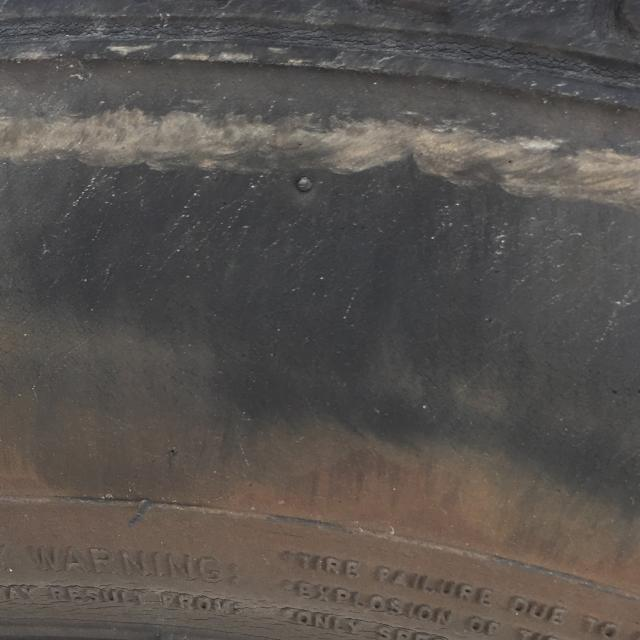Cracks: (0, 0, 640, 104), (0, 564, 510, 640)
Non-defective: (0, 183, 640, 528)
